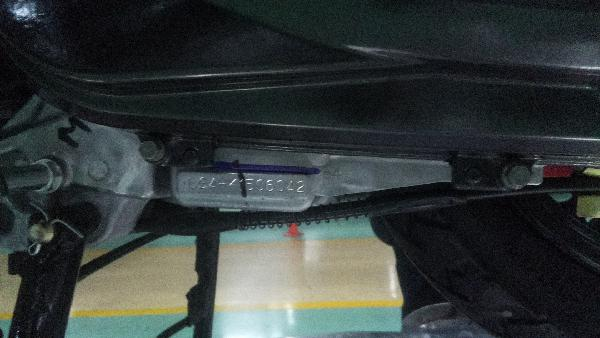box: (186, 175, 307, 192)
